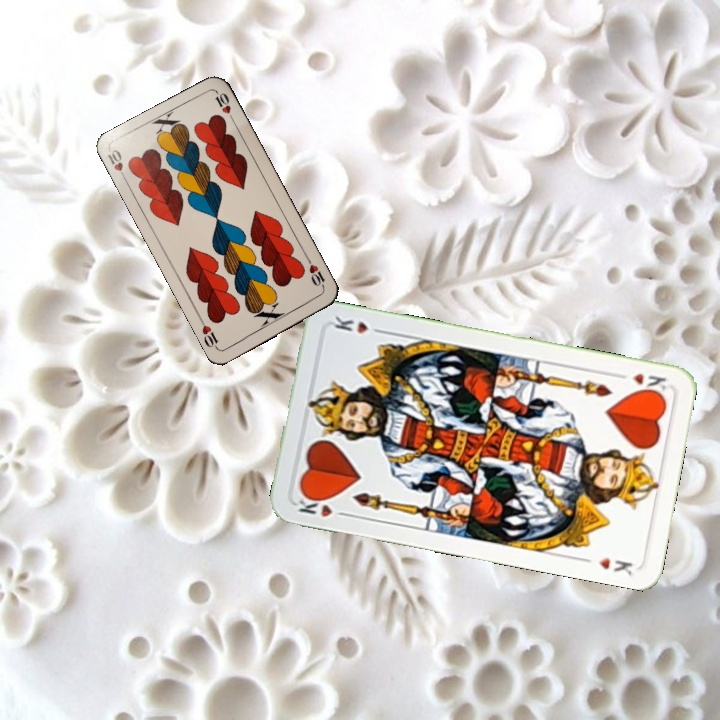H10: (103, 145, 130, 184), (303, 254, 327, 292)
HK: (293, 491, 352, 520), (612, 369, 669, 398)
